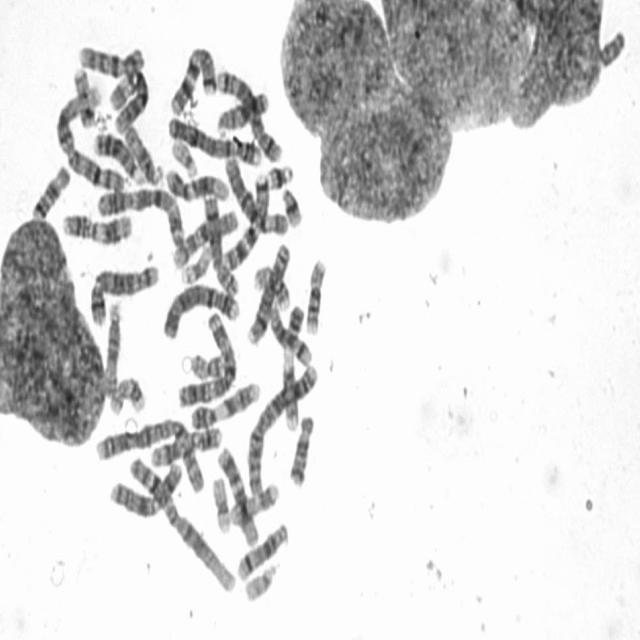A1: (124, 448, 237, 595), (52, 79, 132, 193)
A2: (243, 356, 321, 498), (90, 410, 210, 496)
A3: (173, 304, 240, 409), (92, 178, 189, 250)
B4: (166, 108, 266, 167), (159, 273, 243, 340)
B5: (213, 60, 285, 163), (87, 254, 162, 327)
C10: (168, 199, 242, 270), (74, 35, 148, 77)
C11: (148, 420, 225, 470), (58, 204, 135, 246)
C12: (214, 438, 263, 548), (162, 160, 232, 203)
C6: (222, 147, 290, 237), (107, 60, 152, 133)
C7: (219, 164, 271, 272), (167, 38, 220, 116)
C8: (243, 232, 292, 346), (201, 188, 241, 298)
C9: (187, 372, 262, 430), (278, 295, 307, 434)
D13: (89, 122, 147, 186), (214, 82, 272, 138)
D14: (234, 514, 292, 583), (266, 298, 314, 368)
D15: (119, 115, 166, 187), (101, 294, 124, 399)
E16: (251, 252, 290, 314), (302, 250, 330, 335)
E17: (227, 475, 281, 528), (107, 368, 148, 416)
E18: (28, 157, 73, 222), (286, 408, 316, 488)
F19: (178, 236, 215, 285), (208, 467, 233, 536)
F20: (69, 60, 98, 129), (187, 343, 227, 381)
G21: (278, 178, 306, 229), (264, 156, 296, 191)
G22: (241, 556, 280, 602), (168, 130, 200, 178)
X: (107, 454, 186, 520)
Y: (583, 24, 635, 83)
